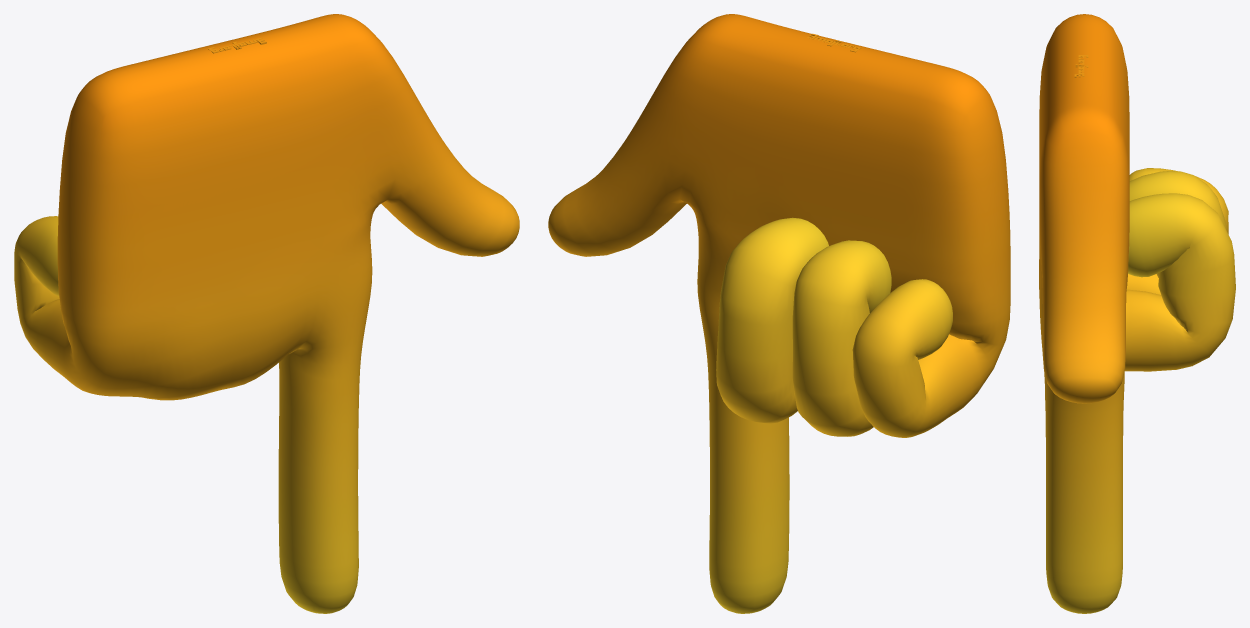
The model's file is backhand_index_pointing_down.gltf.
3 renders of one model, left to right at view 1: azimuth 30°, elevation 25°; view 2: azimuth 150°, elevation 25°; view 3: azimuth 270°, elevation 25°, orthographic. The views are drawn at different scales.
Visible parts, largest first — view 1: Cube.097; view 2: Cube.097; view 3: Cube.097.
Boxes of the visible parts, x1,y1,x2,y2 form: Cube.097: [14, 14, 519, 613]; Cube.097: [548, 14, 1010, 613]; Cube.097: [1039, 14, 1235, 613].
Size of the model in its own units: 1.39 by 1.75 by 0.6136.
2 materials, 2 textured.
